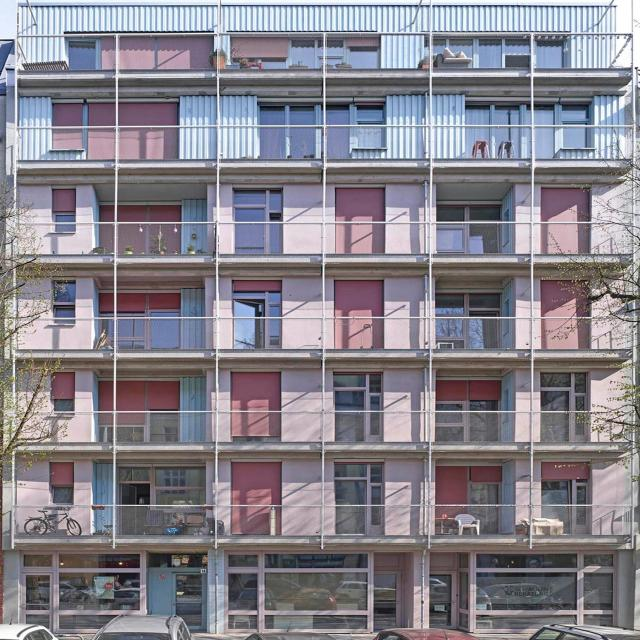door: (144, 568, 205, 632), (371, 568, 401, 632), (430, 567, 458, 629)
wall: (3, 4, 640, 637)
windows: (222, 549, 406, 635), (18, 550, 206, 630), (430, 552, 612, 630), (465, 106, 590, 159), (116, 468, 204, 536), (260, 106, 348, 158), (232, 39, 375, 70), (436, 292, 504, 350), (425, 41, 560, 68), (436, 204, 504, 255), (332, 373, 382, 442), (336, 464, 384, 534), (541, 372, 588, 442), (101, 310, 180, 350), (539, 481, 591, 540), (238, 188, 283, 255), (232, 291, 280, 349), (436, 399, 498, 440), (101, 411, 180, 441), (470, 483, 500, 533), (354, 105, 386, 146), (67, 38, 100, 72), (52, 282, 76, 323), (51, 488, 73, 504), (56, 215, 74, 232), (54, 400, 74, 412)
